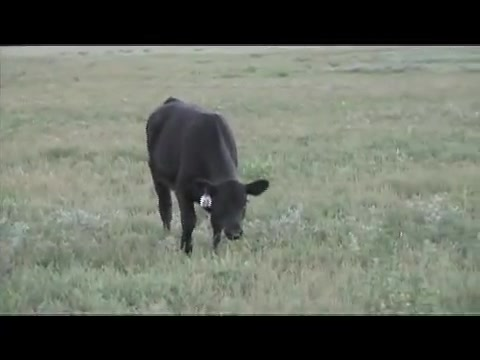cow: (146, 94, 273, 257)
